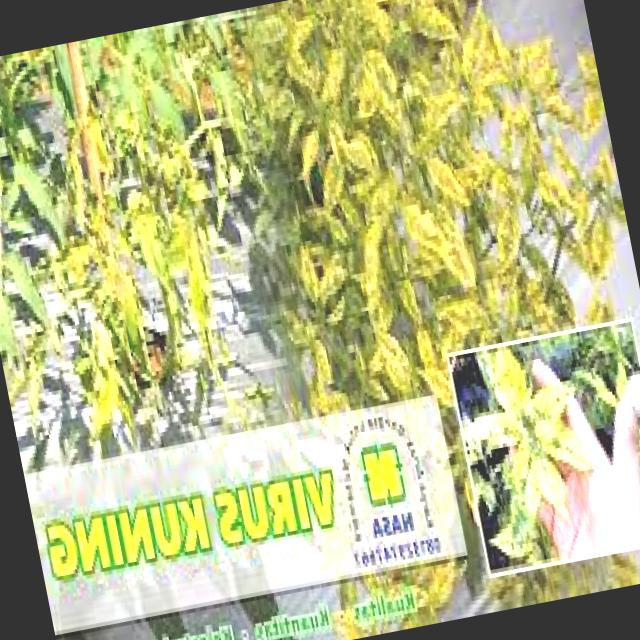yellowish leaf: (228, 0, 640, 379), (27, 168, 254, 450)
